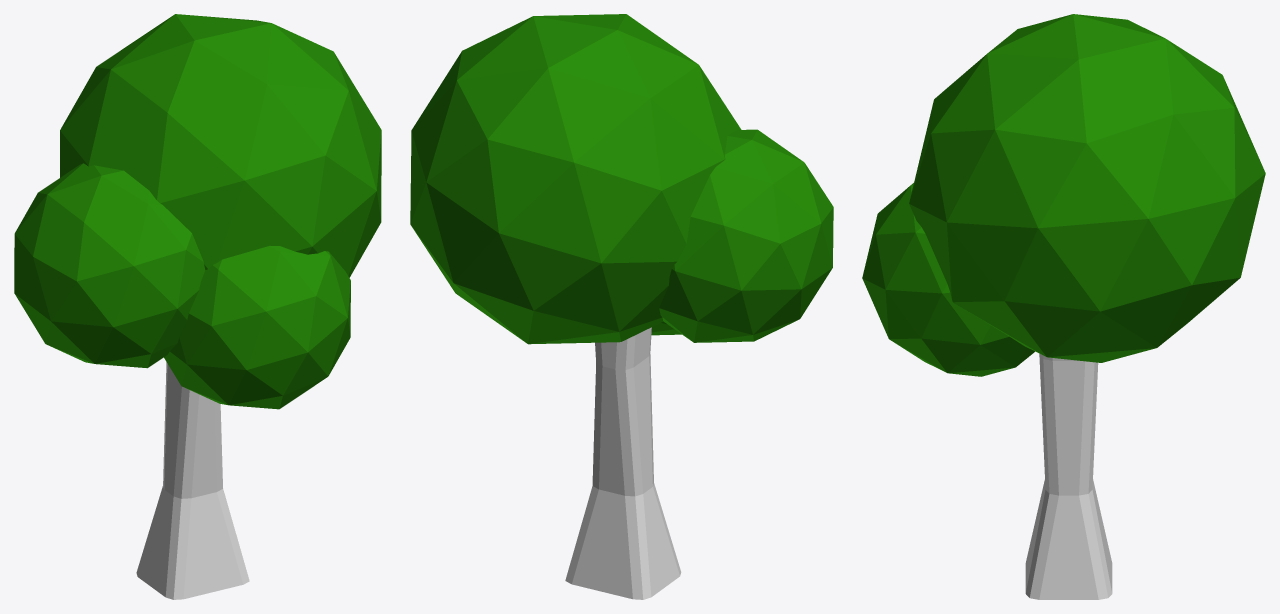
File: tree.fbx
3 renders of one model, left to right at view 1: azimuth 30°, elevation 25°; view 2: azimuth 150°, elevation 25°; view 3: azimuth 270°, elevation 25°, orthographic. The views are drawn at different scales.
Visible parts, largest first — view 1: Icosphere.001, Icosphere, Icosphere.002, Cube; view 2: Icosphere.001, Icosphere, Cube; view 3: Icosphere.001, Cube, Icosphere.002.
Part boxes in pixels (x1,y1,x2,y2): Icosphere.001: (60, 14, 381, 277); Icosphere: (14, 163, 205, 368); Icosphere.002: (164, 246, 350, 409); Cube: (136, 362, 249, 599); Icosphere.001: (410, 14, 741, 344); Icosphere: (659, 129, 833, 342); Cube: (565, 327, 681, 599); Icosphere.001: (909, 14, 1265, 362); Cube: (1025, 353, 1112, 599); Icosphere.002: (862, 183, 1034, 376).
Bounding box in the file's own units: 773 × 1123 × 725.
